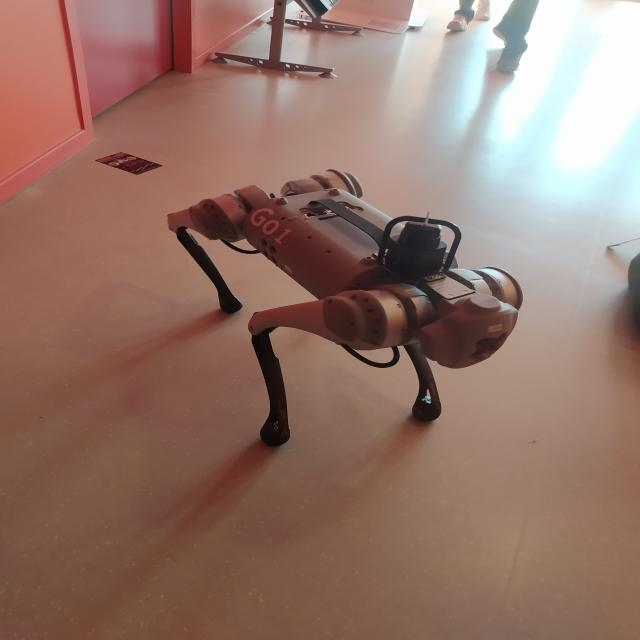unitree-go1-robot: (150, 158, 534, 465)
